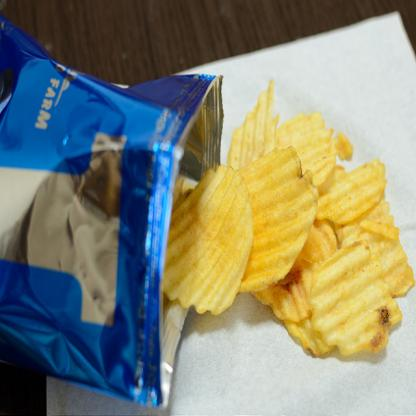potatochip: (0, 8, 226, 408)
